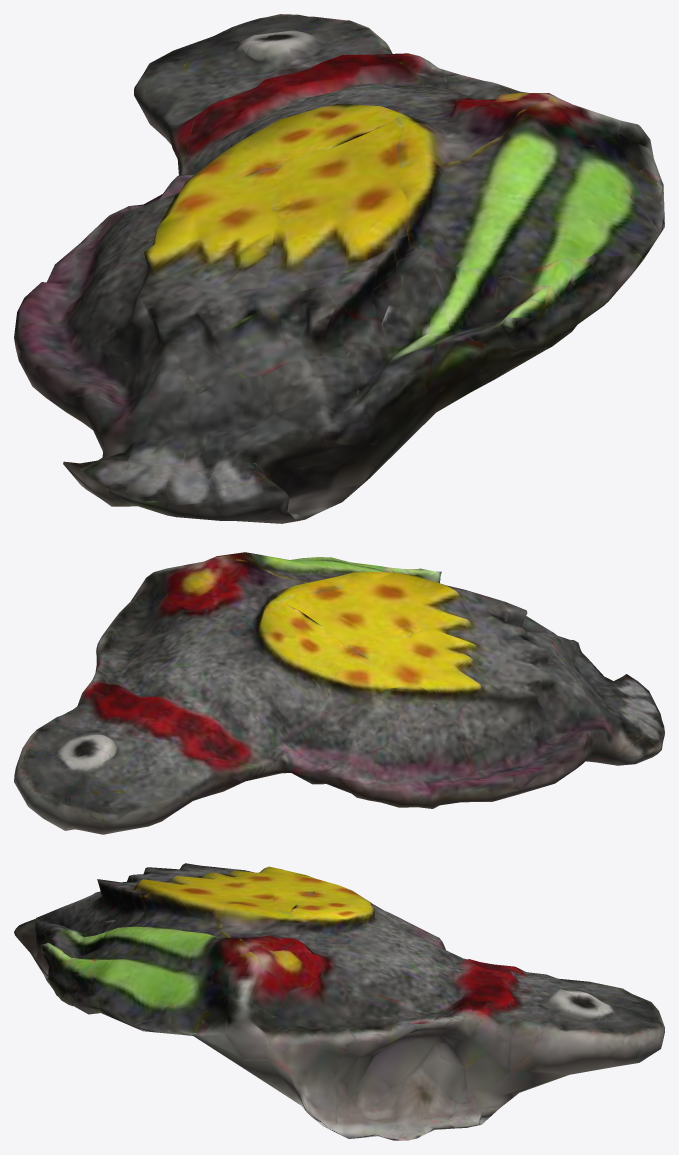
The model's file is hall.glb.
3 renders of one model, top to bottom at view 1: azimuth 30°, elevation 25°; view 2: azimuth 150°, elevation 25°; view 3: azimuth 270°, elevation 25°, orthographic. The views are drawn at different scales.
Bounding box in the file's own units: 0.7926 × 0.2712 × 0.8954.
1 material, 1 textured.
